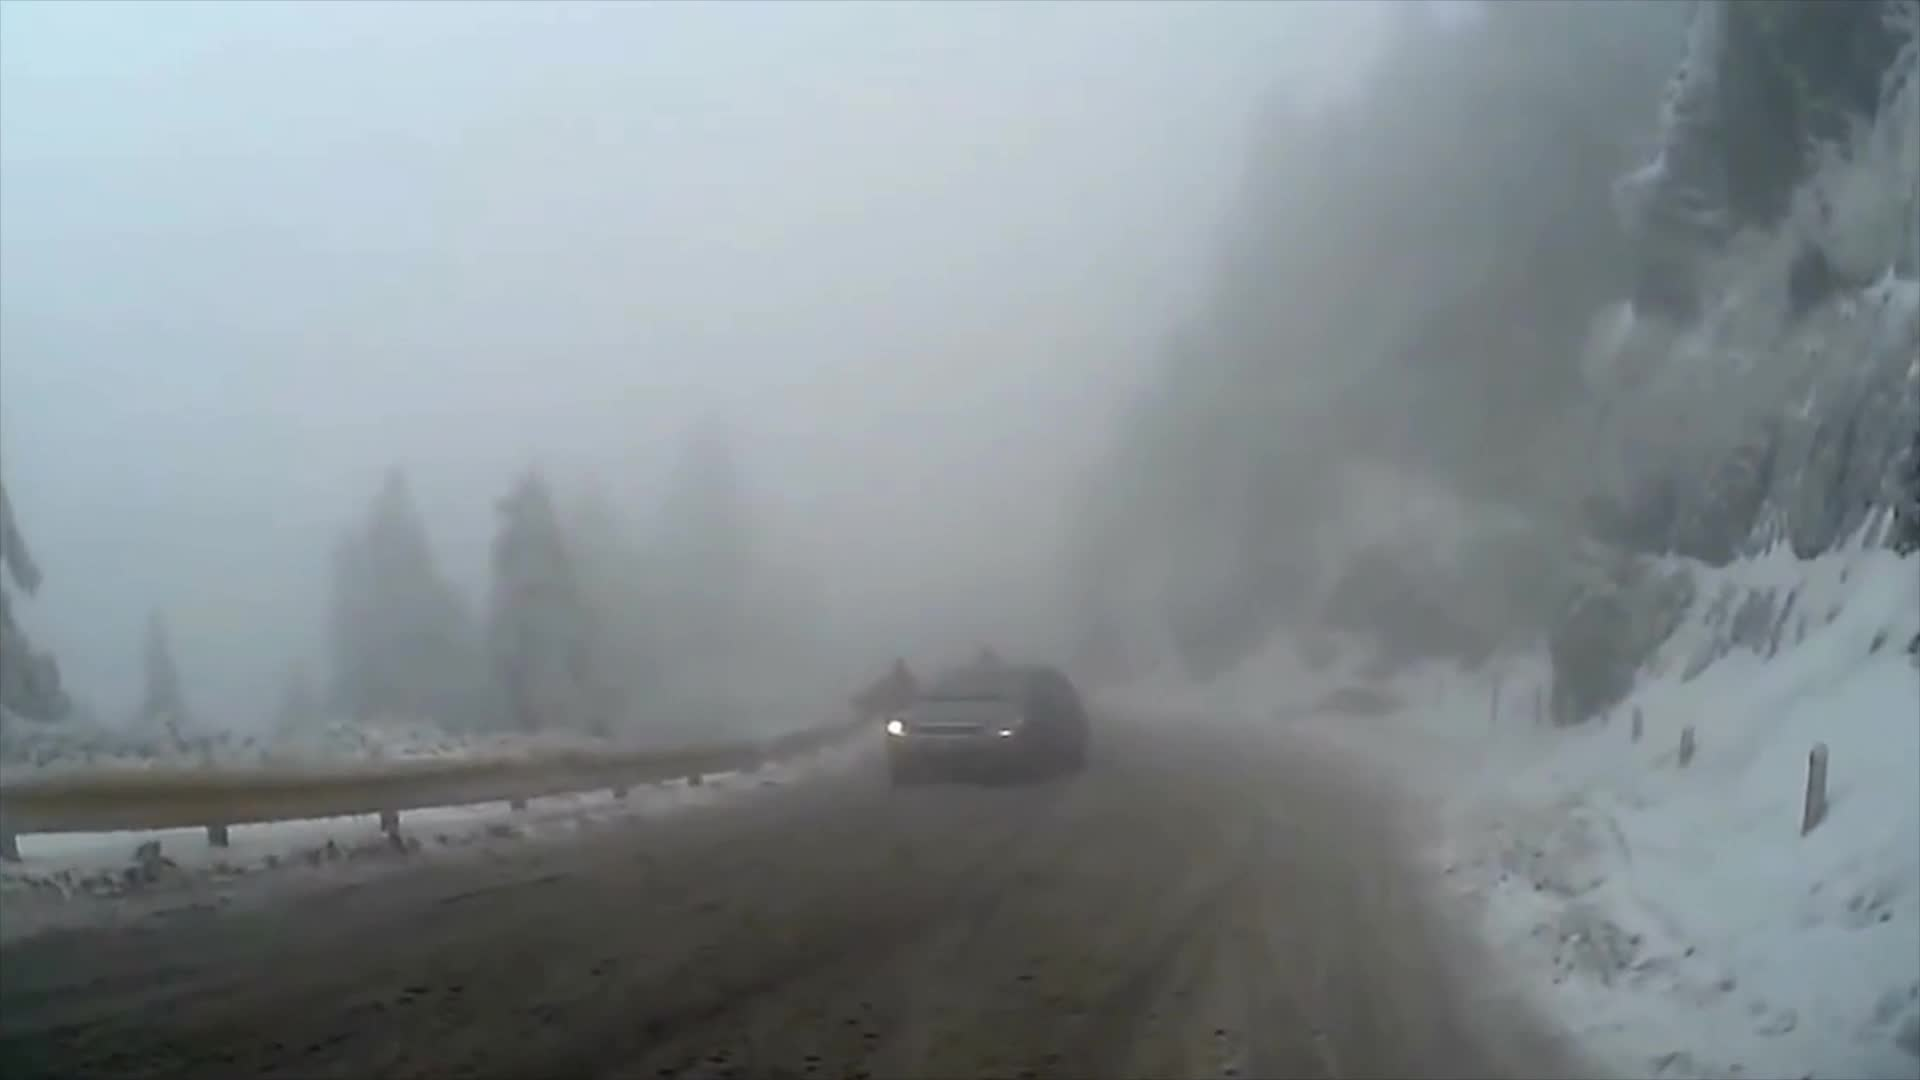vehicle: (884, 661, 1089, 785)
